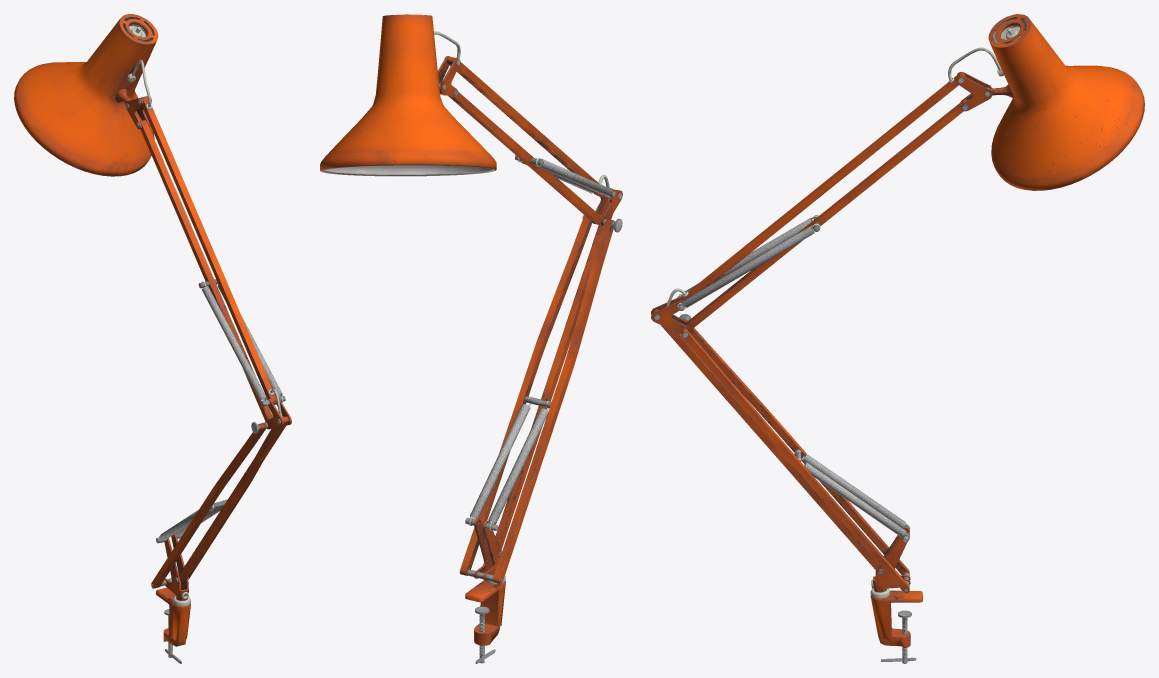
File: desk_lamp_arm_01.glb
3 renders of one model, left to right at view 1: azimuth 30°, elevation 25°; view 2: azimuth 150°, elevation 25°; view 3: azimuth 270°, elevation 25°, orthographic. The views are drawn at different scales.
Parts seen in each view (by area): view 1: desk_lamp_arm_01; view 2: desk_lamp_arm_01; view 3: desk_lamp_arm_01.
Boxes of the visible parts, x1,y1,x2,y2 form: desk_lamp_arm_01: (14, 14, 291, 663); desk_lamp_arm_01: (320, 14, 622, 663); desk_lamp_arm_01: (651, 14, 1144, 663).
Bounding box in the file's own units: 0.2017 × 0.8926 × 0.6139.
Materials: 2 (2 with a texture image).
